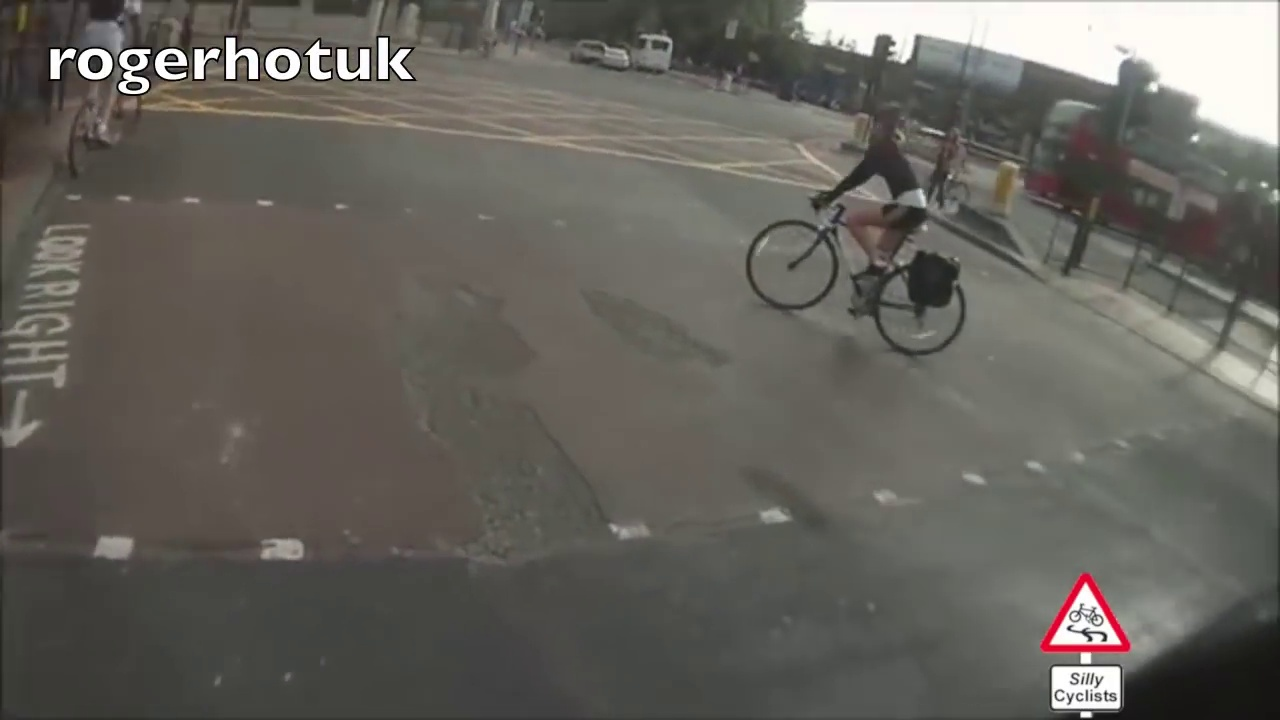cyclist_side: (752, 91, 979, 359)
